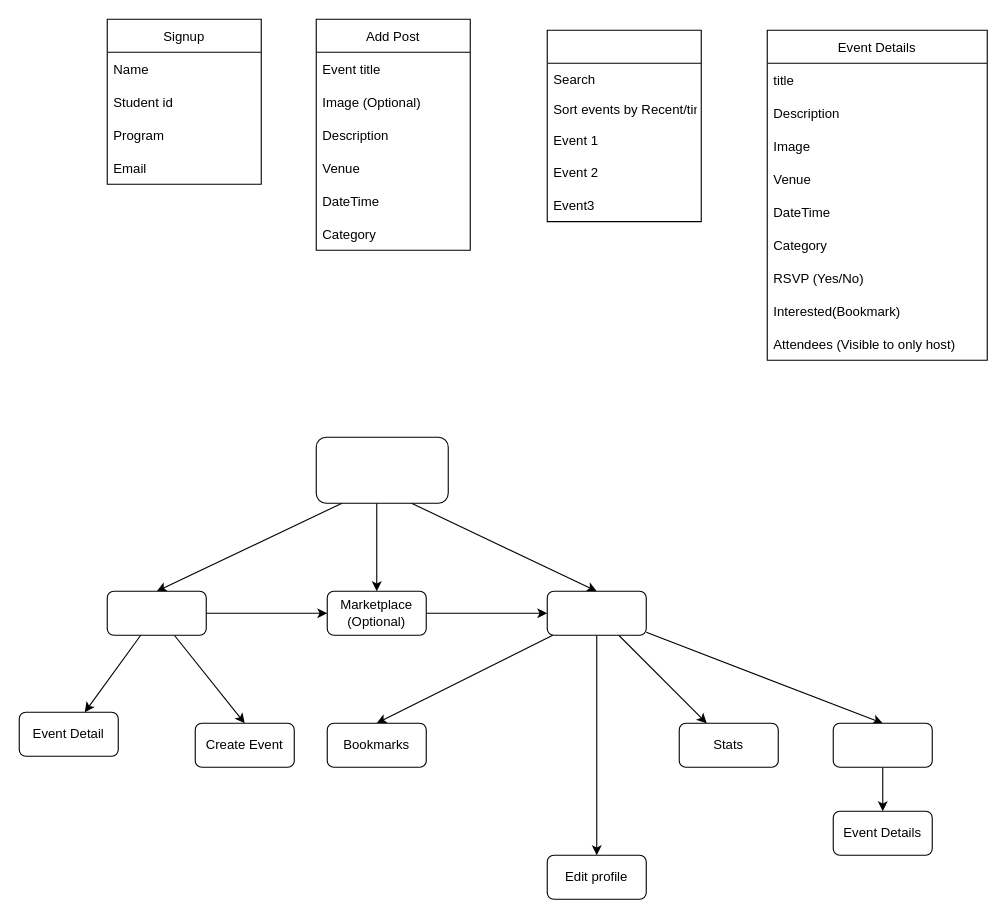
Some shapes in this 1007 by 919 pixel diagram are drawn without their labels. Each missing label, with the box of its shape:
Bottom navbar: (315, 436, 448, 503)
Events: (106, 590, 206, 635)
List of Events: (546, 29, 701, 222)
My Events: (832, 722, 932, 767)
Profile: (546, 590, 646, 635)
